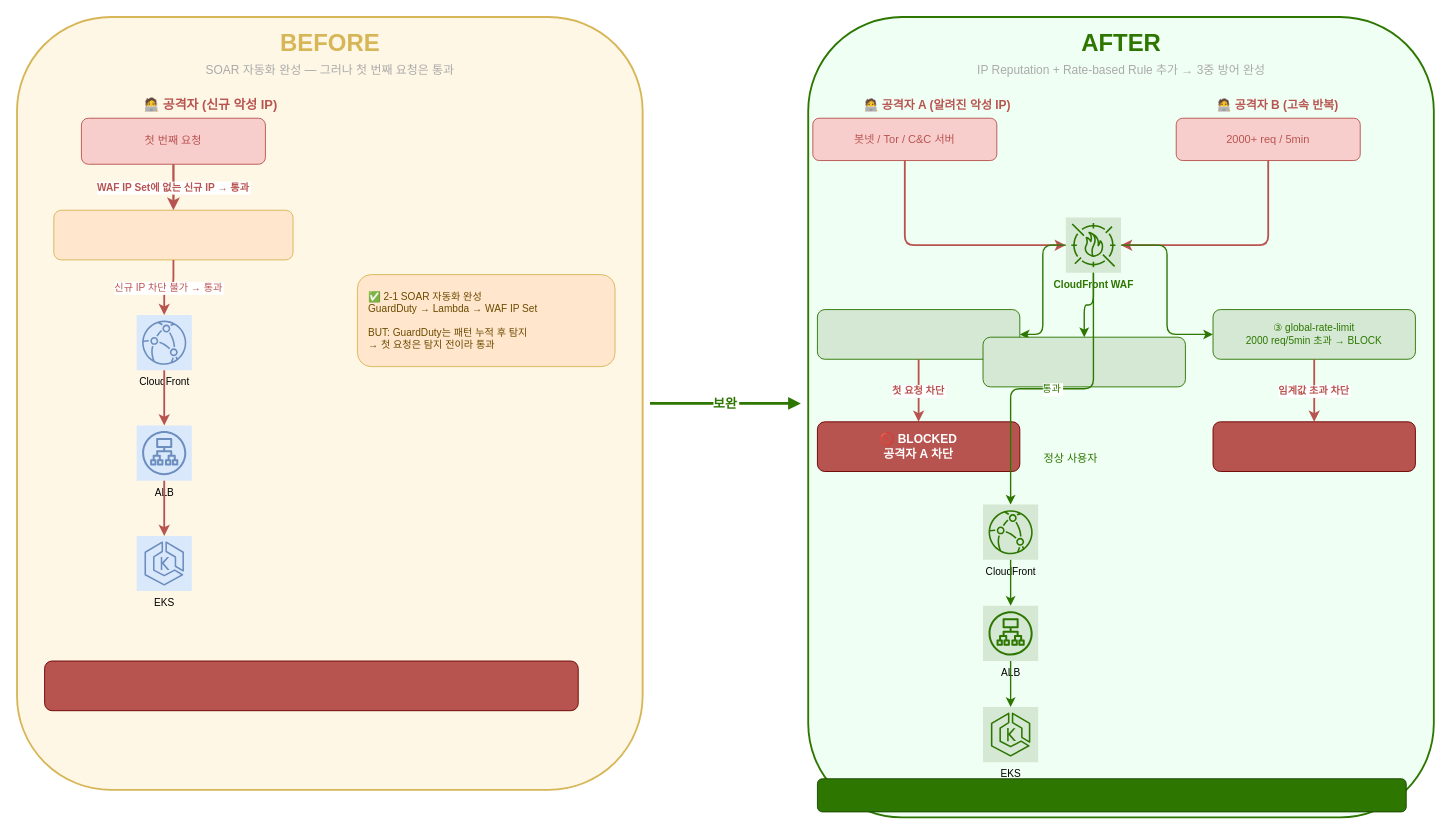
Image size: 1450x834. Some labels were removed from this diagram. The box of each missing label's shape, as (x1, y1, x2, y2) in pixels:
CloudFront WAF (guardduty-blocked-ips만 차단): (53, 209, 293, 260)
① IP Reputation List 알려진 악성 IP → 첫 요청부터 BLOCK: (816, 309, 1020, 359)
② guardduty-blocked-ips GuardDuty 탐지 IP → BLOCK: (982, 336, 1185, 387)
✅ 3중 방어 완성 — 알려진 악성 IP · 고속 공격 선제 차단: (816, 778, 1406, 812)
❌ 신규 악성 IP의 첫 요청은 서버까지 도달: (44, 660, 578, 711)
🚫 BLOCKED 공격자 B 차단: (1212, 421, 1415, 472)
